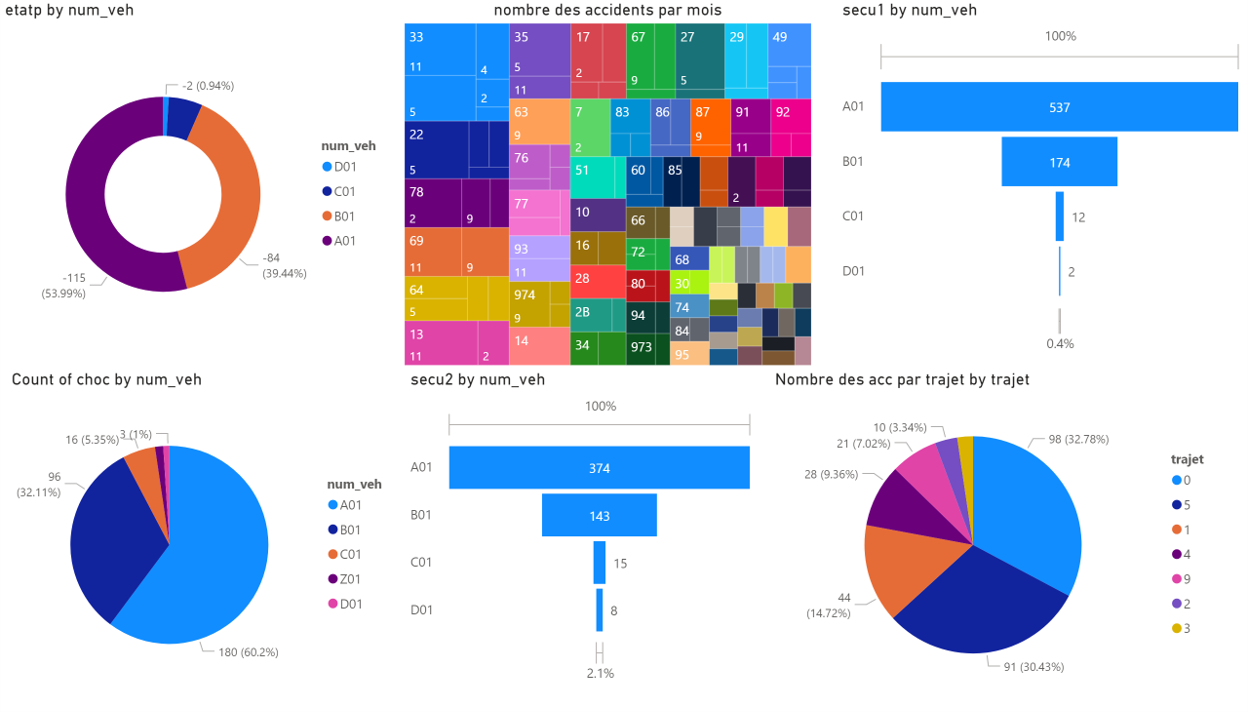

What the dashboard file says about the page in this screenshot:
{"tool":"powerbi","page":{"name":"Page 2","canvas":[1280,720],"ordinal":1},"visuals":[{"type":"donutChart","fields":{"Category":["usagers-2019.num_veh"],"Y":["Sum(usagers-2019.etatp)"]},"box":[0,0,410.5,379.3],"z":0},{"type":"funnel","fields":{"Category":["usagers-2019.num_veh"],"Y":["Sum(usagers-2019.secu2)"]},"box":[416.3,379.3,362.8,327.8],"z":1000},{"type":"funnel","fields":{"Category":["usagers-2019.num_veh"],"Y":["Sum(usagers-2019.secu1)"]},"box":[858.8,0,421.2,368.6],"z":2000},{"type":"pieChart","fields":{"Y":["CountNonNull(vehicules-2019.choc)"],"Series":["vehicules-2019.num_veh"]},"box":[6.8,379.3,409.5,340.4],"z":3000},{"type":"pieChart","fields":{"Series":["usagers-2019.trajet"],"Y":["CountNonNull(usagers-2019.Num_Acc)"]},"box":[789.8,379.3,468.8,340.4],"z":4000},{"type":"treemap","title":"nombre des accidents par mois","fields":{"Group":["caracteristiques-2019.dep"],"Values":["CountNonNull(caracteristiques-2019.Num_Acc)"],"Details":["caracteristiques-2019.mois"]},"box":[410.5,0,427,379.3],"z":5000}]}

Visuals, with their boxes in screenshot pixels (x1, y1, x2, y2), scaled from the page's 1280x720 canvas onto the 1248x712 screenshot:
donutChart - usagers-2019.num_veh x Sum(usagers-2019.etatp): Rect(0, 0, 400, 375)
funnel - usagers-2019.num_veh x Sum(usagers-2019.secu2): Rect(406, 375, 760, 699)
funnel - usagers-2019.num_veh x Sum(usagers-2019.secu1): Rect(837, 0, 1247, 365)
pieChart - CountNonNull(vehicules-2019.choc) x vehicules-2019.num_veh: Rect(7, 375, 406, 711)
pieChart - usagers-2019.trajet x CountNonNull(usagers-2019.Num_Acc): Rect(770, 375, 1227, 711)
"nombre des accidents par mois" treemap: Rect(400, 0, 817, 375)
